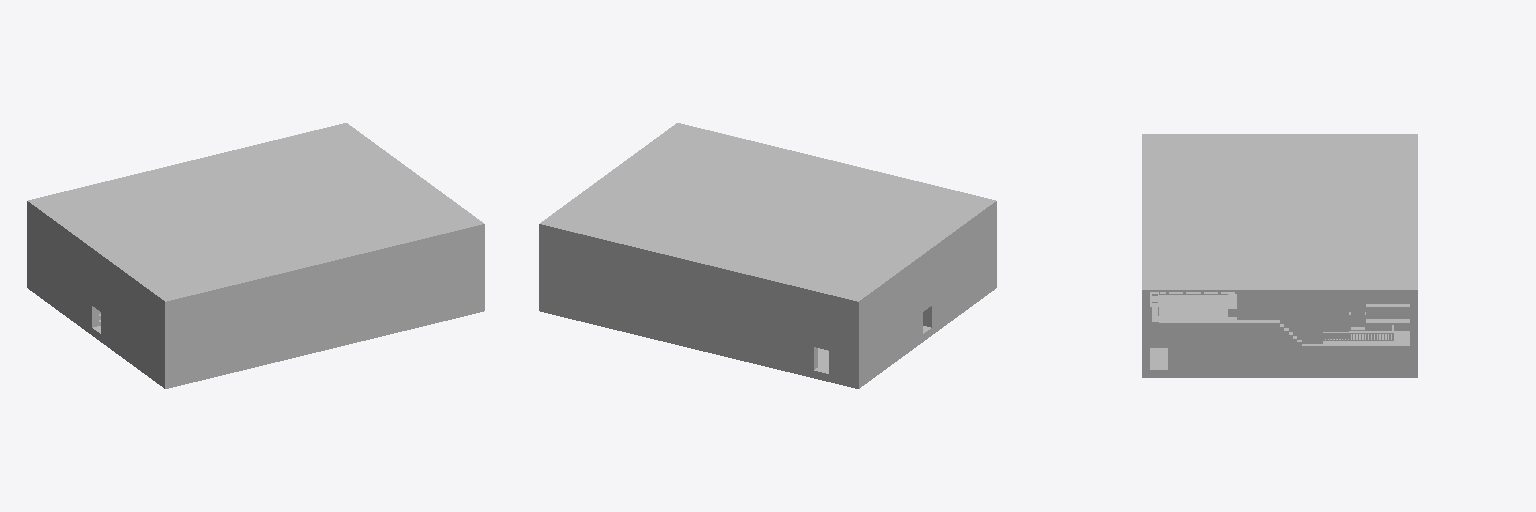
File: roof_labyrinth_left.obj
The picture shows the model from 3 angles: view 1: azimuth 30°, elevation 25°; view 2: azimuth 150°, elevation 25°; view 3: azimuth 270°, elevation 25°; orthographic projection.
Visible parts, largest first — view 1: object 1; view 2: object 1; view 3: object 1.
Part boxes in pixels (bbox=[...]): object 1: bbox=[27, 123, 484, 388]; object 1: bbox=[539, 123, 996, 388]; object 1: bbox=[1142, 134, 1417, 377].
Bounding box in the file's own units: 25.6 × 6.7 × 19.2.